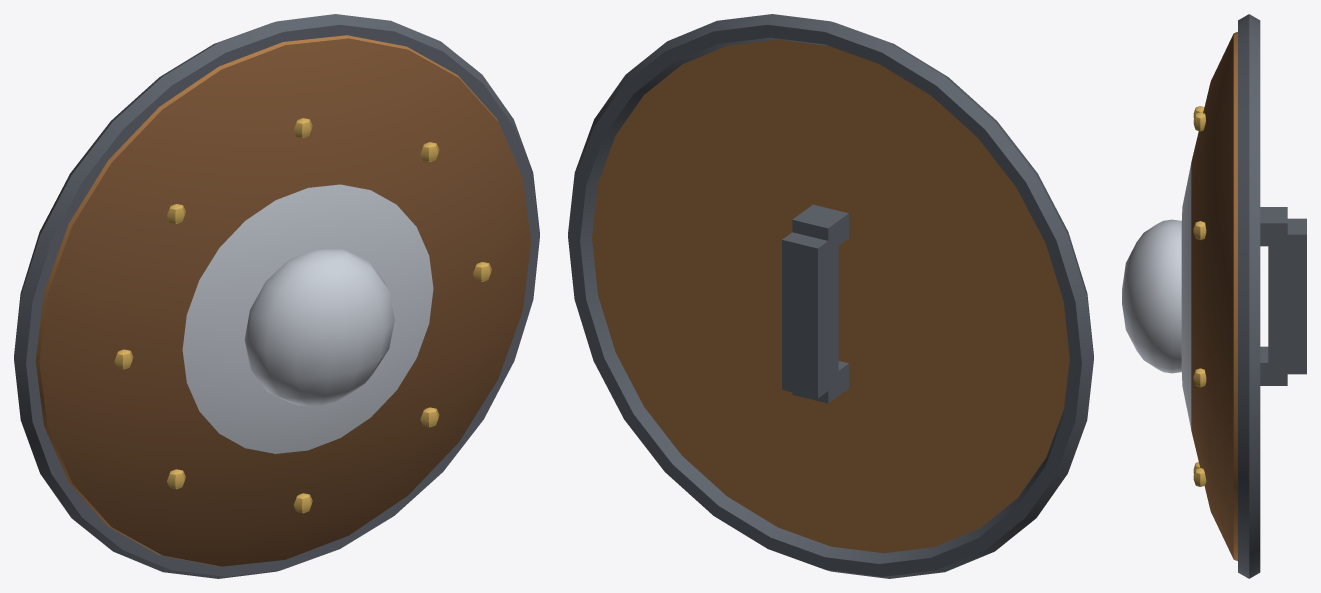
The model's file is shield_buckler.glb.
The picture shows the model from 3 angles, left to right: view 1: azimuth 30°, elevation 25°; view 2: azimuth 150°, elevation 25°; view 3: azimuth 270°, elevation 25°; orthographic projection. The views are drawn at different scales.
Parts seen in each view (by area): view 1: shield_buckler; view 2: shield_buckler; view 3: shield_buckler.
Part boxes in pixels (x1,y1,x2,y2): shield_buckler: [14, 14, 539, 578]; shield_buckler: [568, 14, 1093, 578]; shield_buckler: [1122, 14, 1306, 578].
Size of the model in its own units: 0.44 by 0.44 by 0.144.
